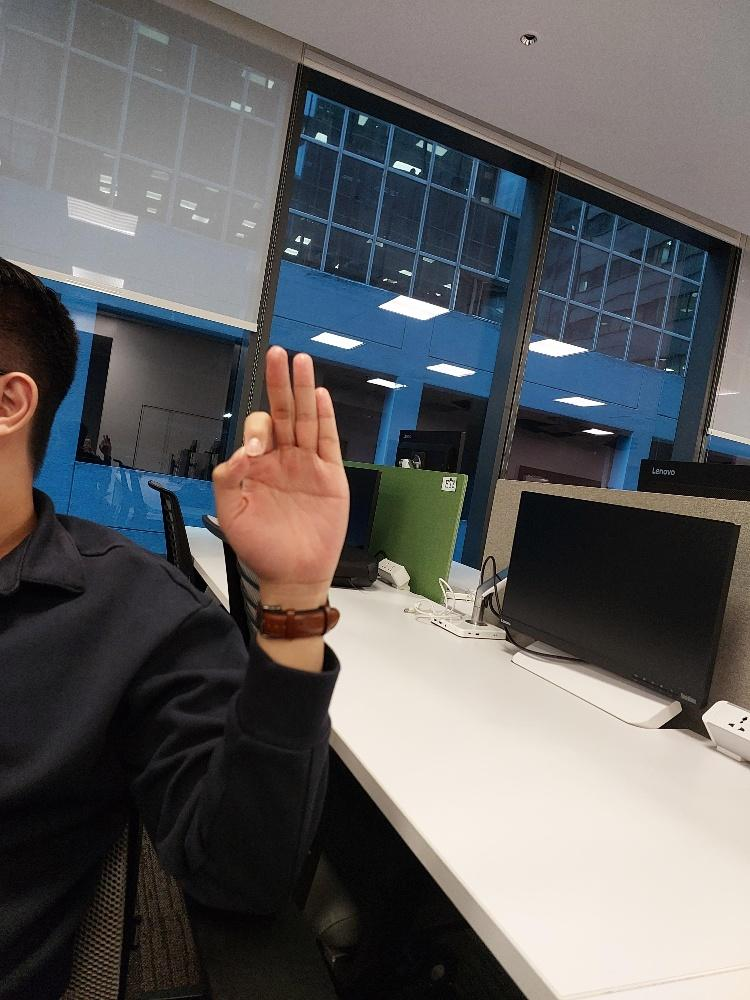f: (210, 343, 351, 575)
